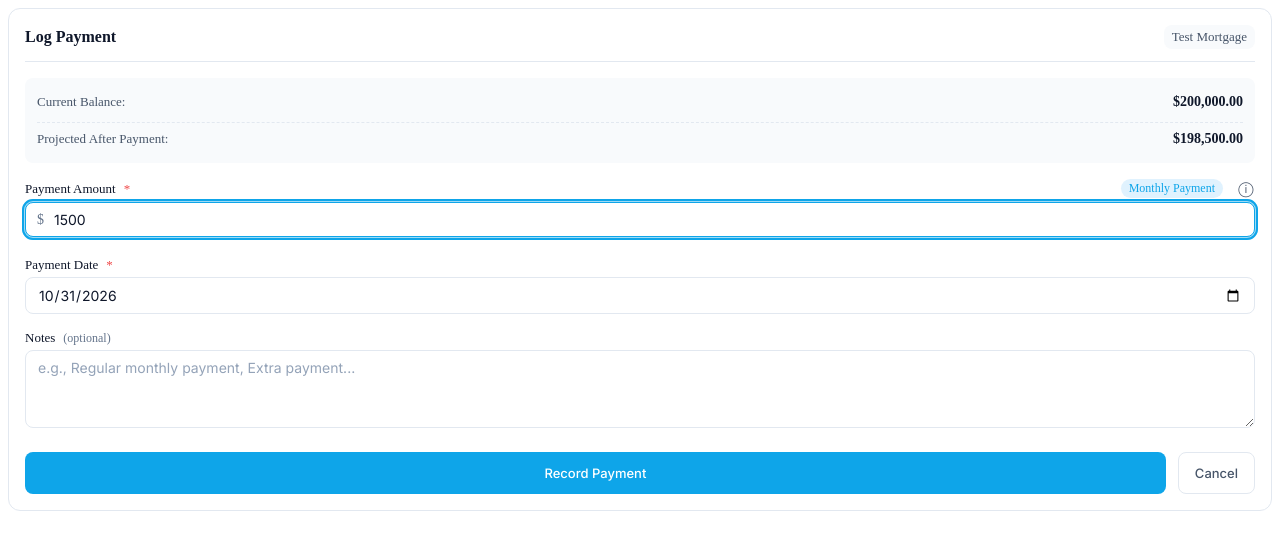
LoanPaymentForm › should apply suggestion when button is clicked
# Clear the pre-filled amount
Replace the text in the field labelled "Payment Amount * Monthly Payment ⓘ" with "1000". click: (640, 220)
box: x1=25 y1=202 x2=1255 y2=237
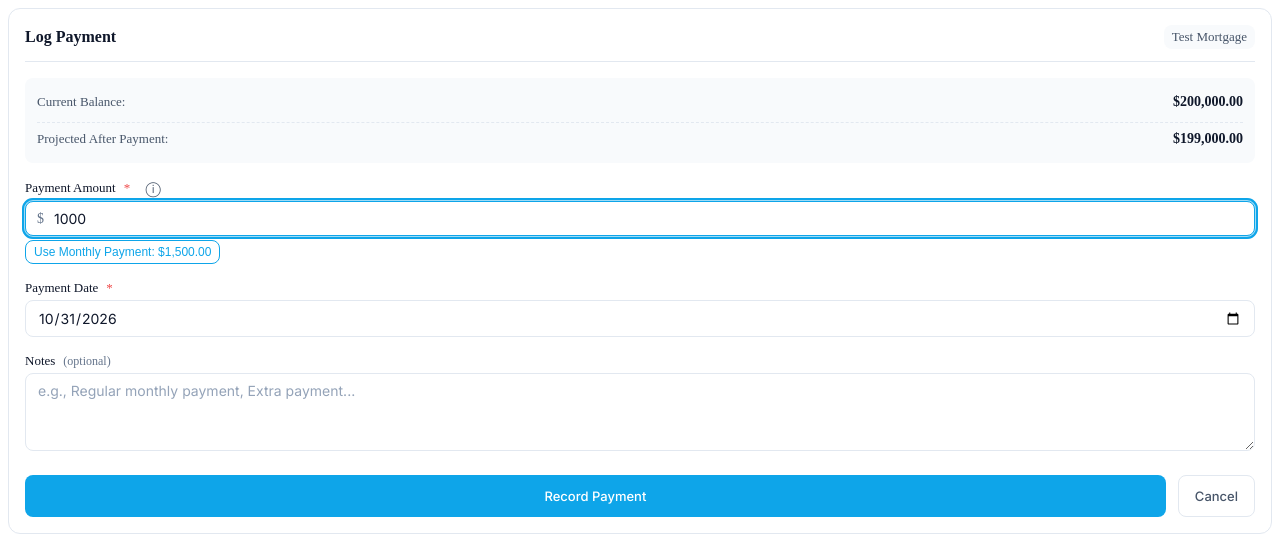
Expected: the button "Use Monthly Payment: $1,500.00" is shown
# Click apply suggestion
Click the button "Use Monthly Payment: $1,500.00". click: (123, 252)
box: x1=25 y1=240 x2=220 y2=264
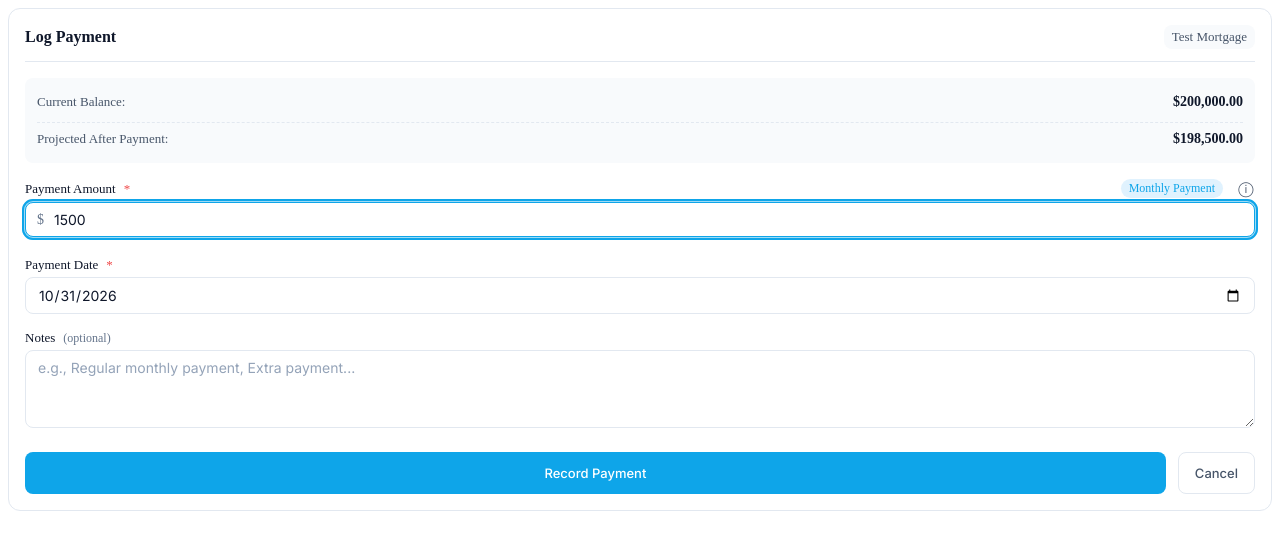
Expected: the field labelled "Payment Amount * Monthly Payment ⓘ" holds "1500", x1=25 y1=202 x2=1255 y2=237
